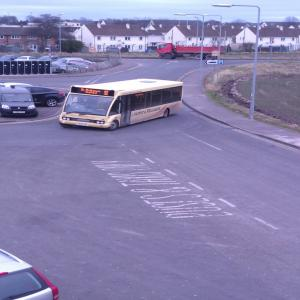Vehicle-registration-plate: (75, 124, 90, 127), (14, 111, 26, 114)
